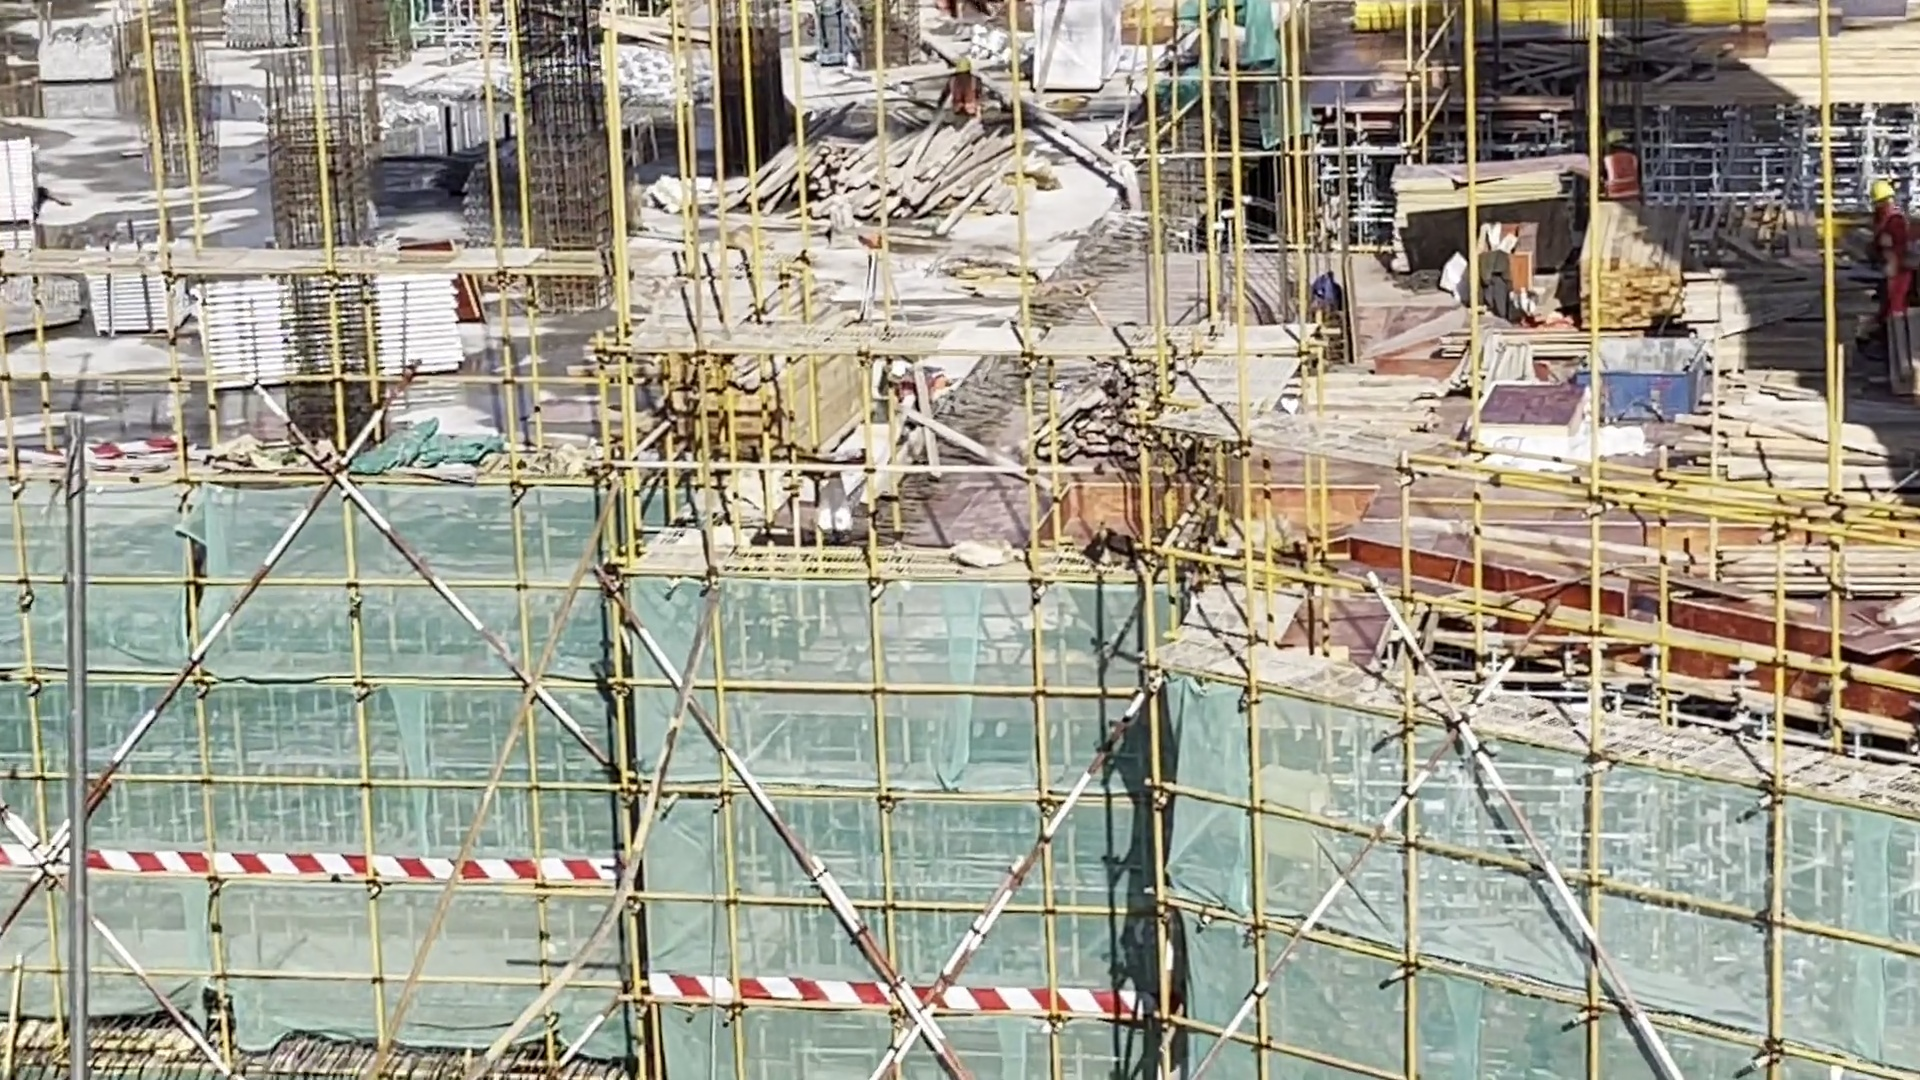helmet: (1865, 176, 1898, 212), (1605, 124, 1631, 148), (948, 52, 968, 71)
hopper: (1584, 344, 1695, 400)
person: (1869, 187, 1920, 397), (1593, 123, 1641, 204), (936, 53, 992, 109)
scaffold: (200, 262, 456, 371), (87, 224, 190, 339)
vest: (1875, 215, 1919, 309), (1611, 156, 1635, 200), (946, 77, 977, 104)
wood: (1651, 389, 1873, 507), (652, 349, 877, 461), (769, 133, 985, 238), (1706, 520, 1901, 601)
